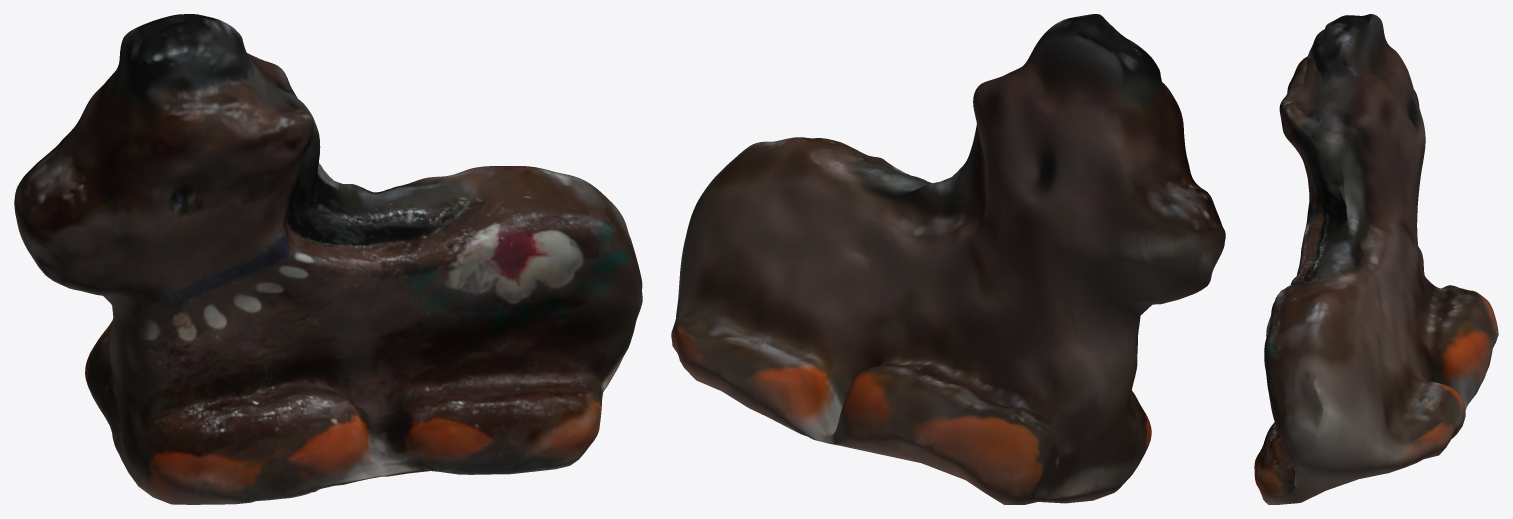
The picture shows the model from 3 angles, left to right: view 1: azimuth 30°, elevation 25°; view 2: azimuth 150°, elevation 25°; view 3: azimuth 270°, elevation 25°; orthographic projection. The views are drawn at different scales.
Size of the model in its own units: 0.5725 by 0.4649 by 0.2802.
1 material, 1 textured.
